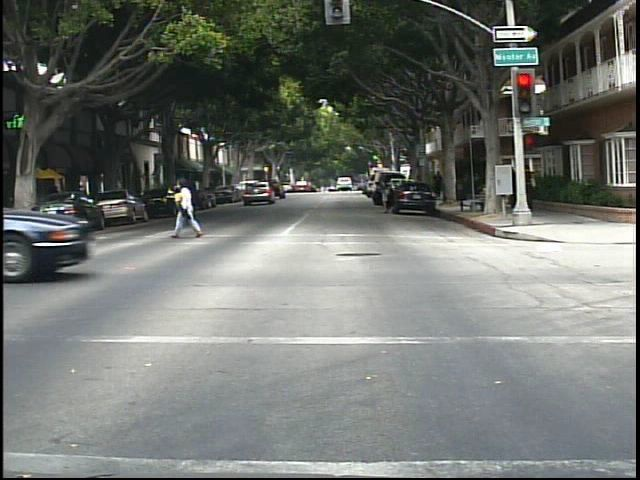person: (168, 175, 204, 243), (373, 171, 399, 216), (434, 168, 448, 199)
